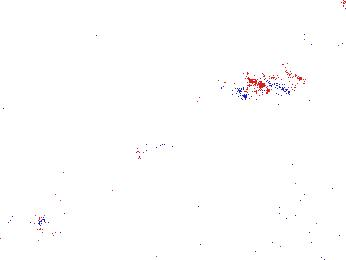glassfish: (51, 138, 166, 187)
red belly glassfish: (221, 80, 268, 98), (268, 74, 305, 91)
redtail glassfish: (290, 29, 346, 55)
